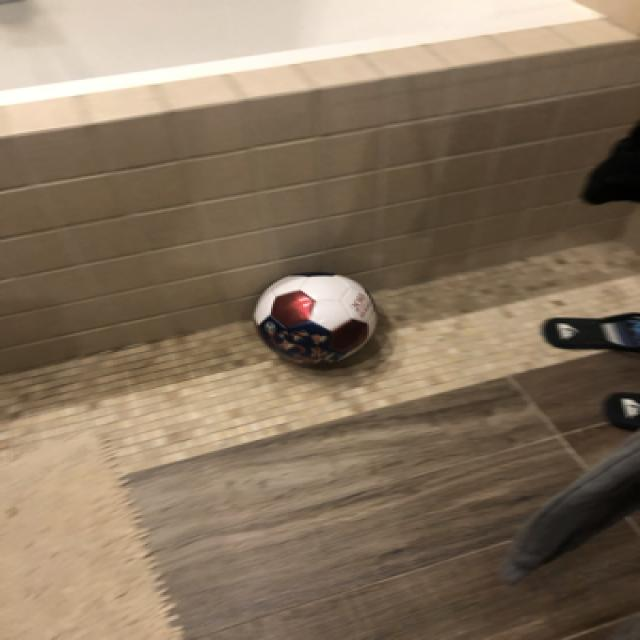soccer_ball: (245, 268, 380, 366)
